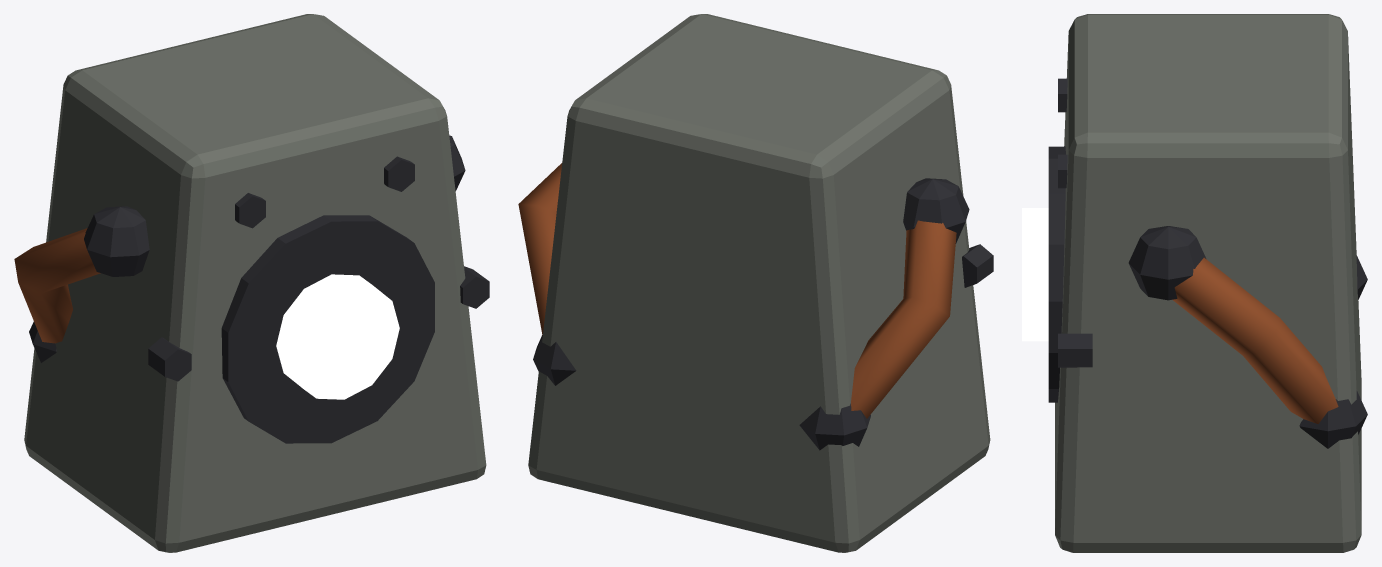
Rendered from co_slug.glb.
3 renders of one model, left to right at view 1: azimuth 30°, elevation 25°; view 2: azimuth 150°, elevation 25°; view 3: azimuth 270°, elevation 25°, orthographic. The views are drawn at different scales.
Parts seen in each view (by area): view 1: co_slug; view 2: co_slug; view 3: co_slug.
Part boxes in pixels (x1,y1,x2,y2): co_slug: [14, 14, 489, 552]; co_slug: [518, 14, 993, 552]; co_slug: [1022, 14, 1367, 552].
Size of the model in its own units: 0.167 by 0.1434 by 0.1118.
